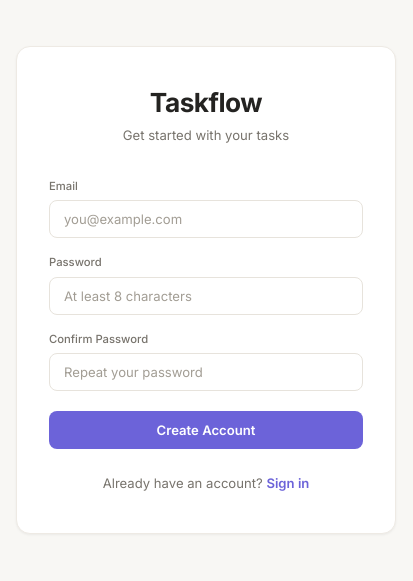
Scenario: RegisterPage › shows error for short password
Type "test@test.com" into the field labelled "Email".
click(206, 219); type("test@test.com")  # box [49,200,363,238]
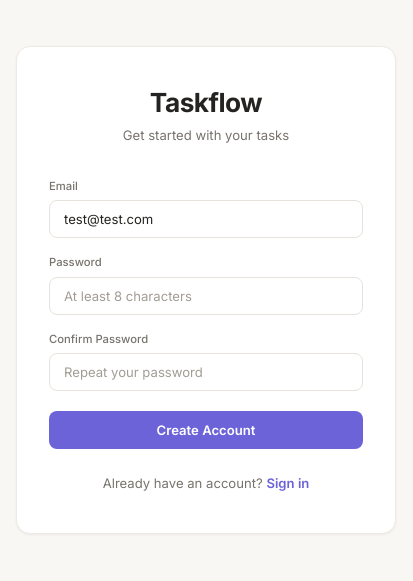
Type "short" into the password field labelled "Password".
click(206, 296); type("short")  # box [49,277,363,315]
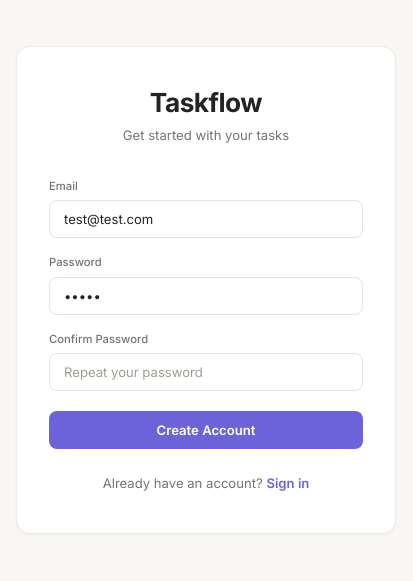
Type "short" into the password field labelled "Confirm Password".
click(206, 372); type("short")  # box [49,353,363,391]
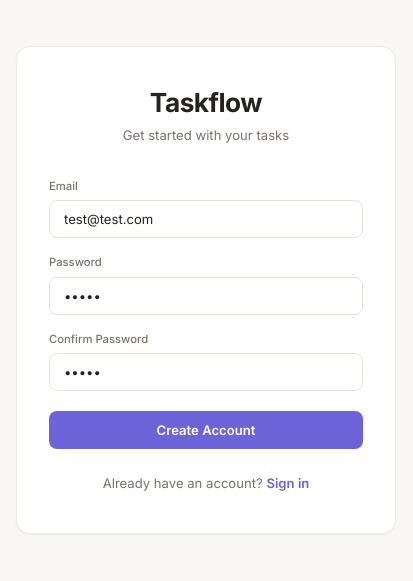
Click the button "Create Account".
click(206, 430)  # box [49,411,363,449]
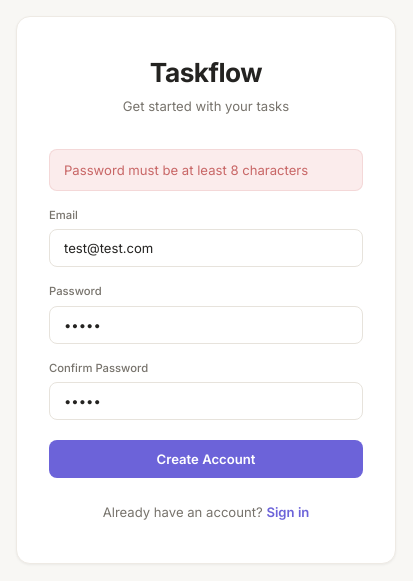
Expected: the text "Password must be at least 8 characters" is shown, [49,149,363,191]
